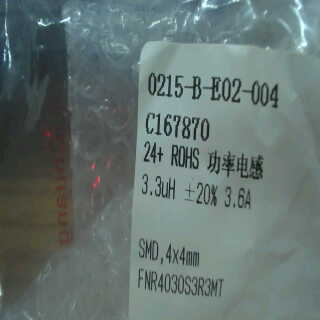3.3uH: (133, 169, 180, 207)
